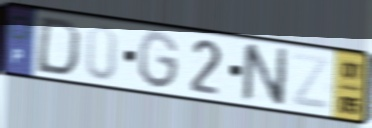0: (84, 22, 121, 83)
2: (188, 38, 224, 98)
D: (33, 15, 84, 78)
G: (136, 29, 181, 92)
N: (240, 41, 290, 109)
Z: (290, 50, 332, 114)
